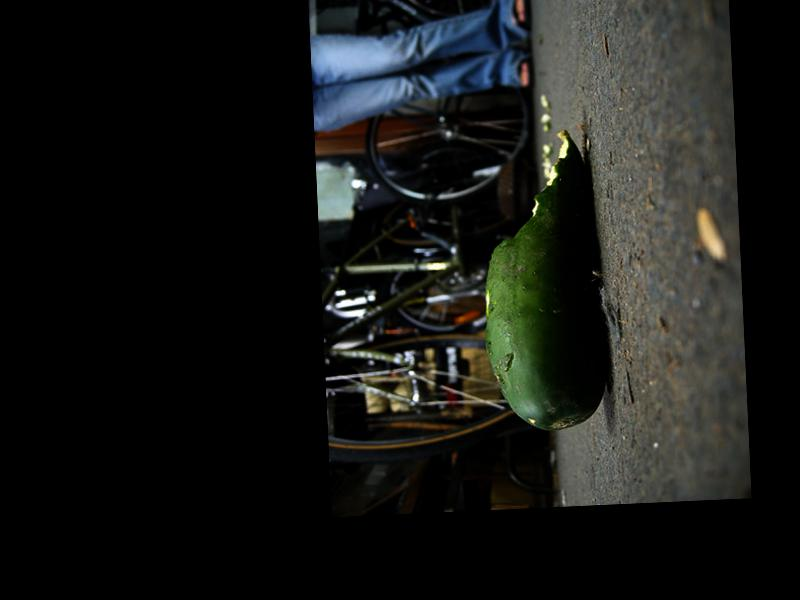Cucumber: (477, 124, 607, 432)
